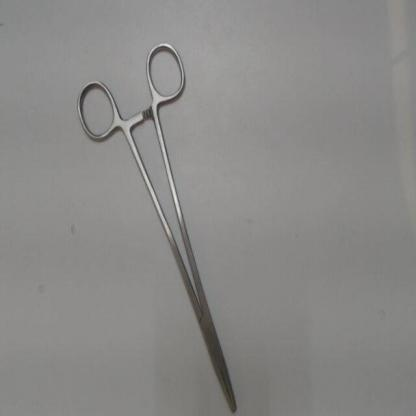8 Mayo Needle Holder: (72, 37, 248, 414)
